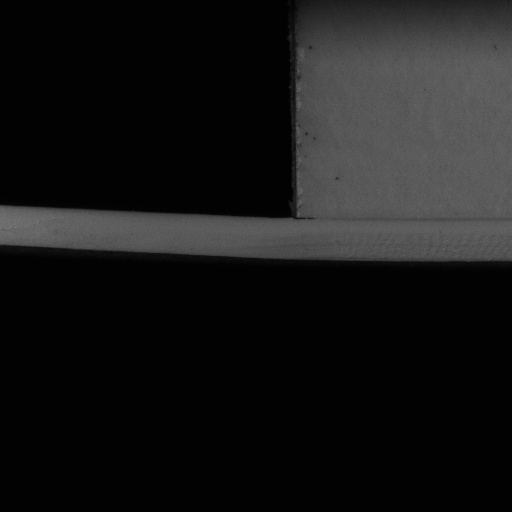changdai: (0, 203, 296, 264)
